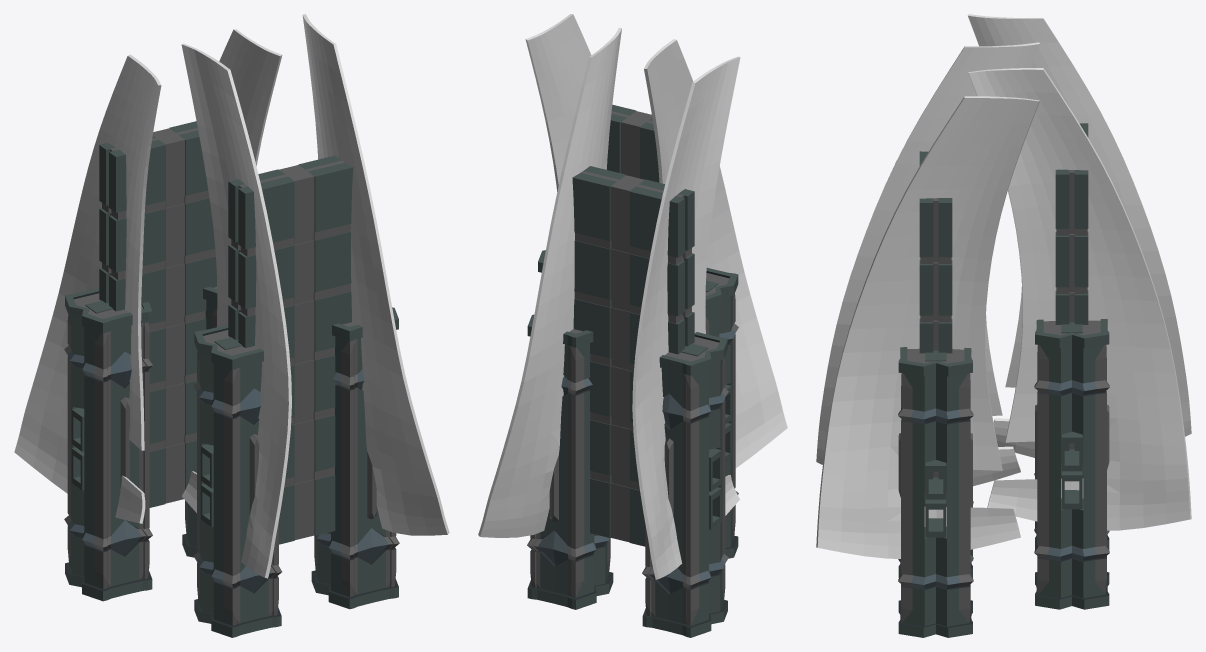
The model's file is building_49.fbx.
3 views of the same model, side by side, from view 1: azimuth 30°, elevation 25°; view 2: azimuth 150°, elevation 25°; view 3: azimuth 270°, elevation 25° (orthographic). The views are drawn at different scales.
Visible parts, largest first — view 1: building_49; view 2: building_49; view 3: building_49.
Part boxes in pixels (x1=…): building_49: x1=14, y1=14, x2=449, y2=637; building_49: x1=478, y1=14, x2=787, y2=637; building_49: x1=816, y1=14, x2=1191, y2=637.
Size of the model in its own units: 1921 by 4025 by 2621.
